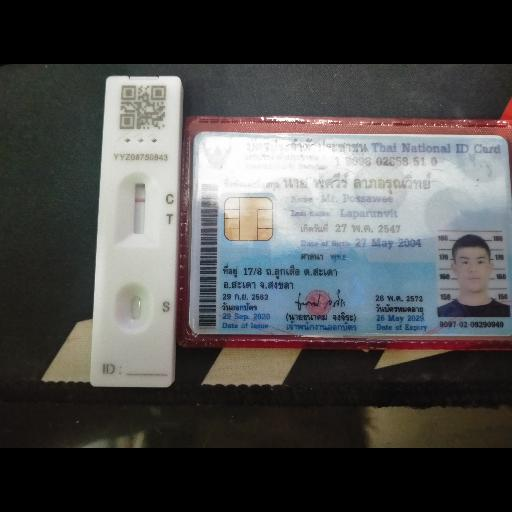Neg: (92, 74, 183, 385)
